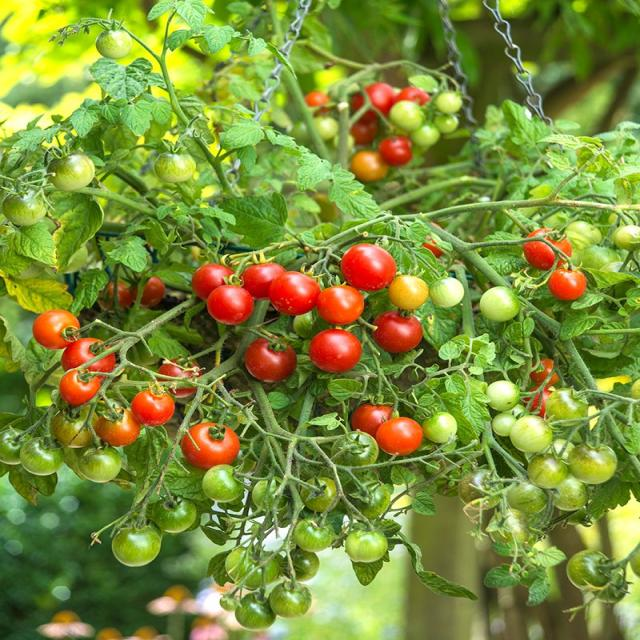level 1: (566, 441, 618, 487), (340, 477, 392, 519), (567, 548, 615, 593), (568, 439, 618, 482), (488, 508, 540, 549), (223, 549, 277, 587), (112, 523, 162, 563), (81, 447, 128, 485), (268, 582, 314, 619), (552, 473, 594, 512), (346, 528, 388, 564), (296, 514, 336, 549), (528, 456, 570, 488), (157, 492, 196, 526), (2, 430, 35, 467), (282, 550, 320, 580), (304, 476, 338, 508), (220, 592, 242, 610)
level 2: (53, 404, 106, 446), (47, 152, 98, 194), (479, 285, 522, 325), (545, 388, 590, 426), (201, 464, 241, 504), (155, 147, 199, 183), (509, 418, 552, 452), (4, 192, 44, 228), (536, 437, 577, 471), (493, 402, 531, 435), (487, 382, 523, 416), (96, 28, 135, 59), (430, 275, 465, 308), (388, 98, 423, 130), (425, 414, 459, 442), (308, 113, 338, 140), (410, 122, 440, 146), (432, 110, 460, 133), (438, 91, 464, 115)
level 4: (389, 274, 431, 310), (352, 150, 391, 181)
level 5: (94, 408, 142, 451), (522, 385, 568, 420), (529, 356, 564, 384)
level 6: (186, 420, 240, 473), (63, 335, 120, 383), (340, 244, 396, 292), (268, 270, 322, 316), (309, 328, 364, 372), (245, 337, 298, 382), (373, 310, 425, 352), (374, 418, 427, 458), (522, 228, 571, 271), (208, 283, 254, 327), (317, 284, 366, 324), (192, 262, 239, 302), (34, 308, 80, 348), (354, 404, 400, 443), (131, 390, 175, 428), (133, 274, 180, 309), (242, 262, 286, 298), (160, 360, 202, 396), (354, 84, 396, 118), (61, 367, 97, 403), (97, 281, 136, 314), (549, 267, 586, 301), (340, 113, 383, 142), (378, 136, 416, 167), (395, 88, 432, 116), (304, 90, 333, 115)
